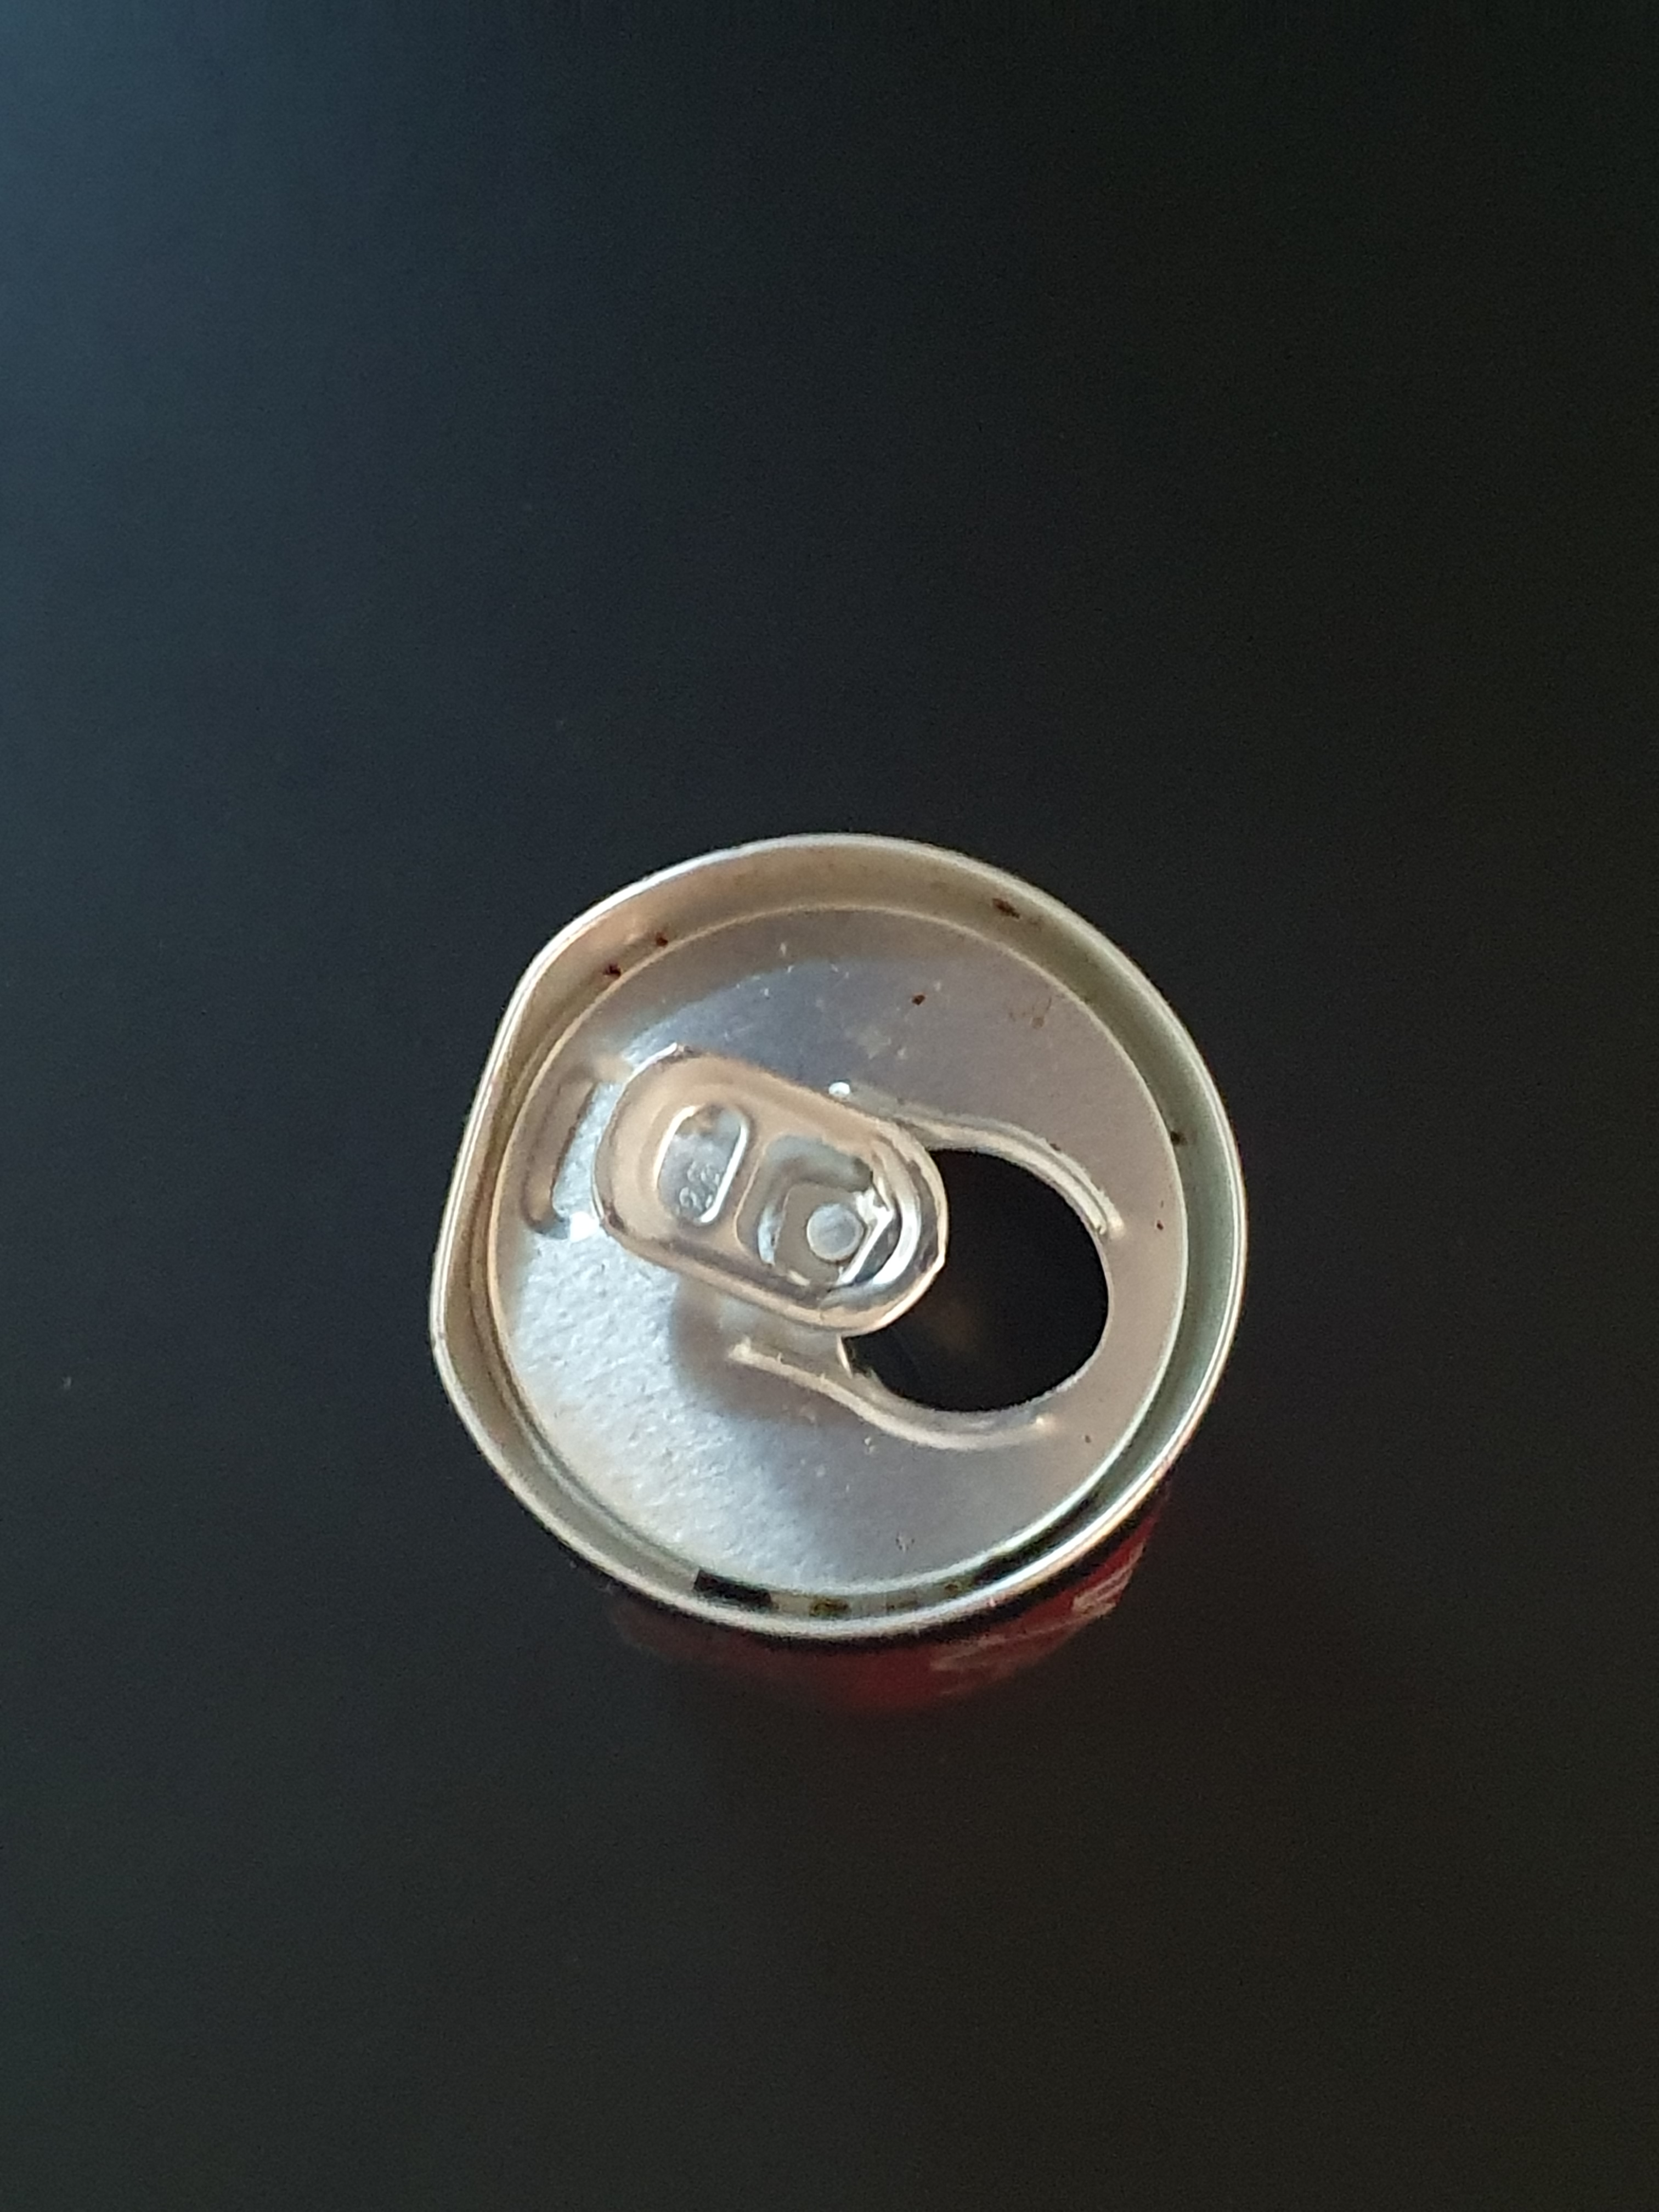metal: (390, 782, 1284, 1745)
